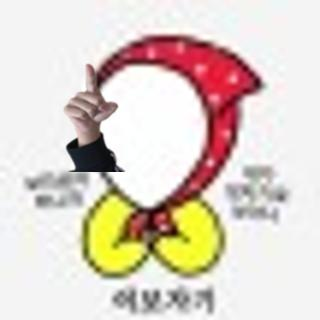IRRITATED: (60, 60, 120, 134)
